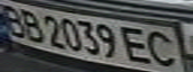0: (57, 16, 81, 53)
2: (36, 11, 66, 50)
3: (75, 18, 100, 56)
9: (93, 20, 124, 61)
B: (12, 7, 48, 44), (0, 1, 30, 38)
C: (139, 28, 187, 70)
E: (118, 25, 157, 65)
